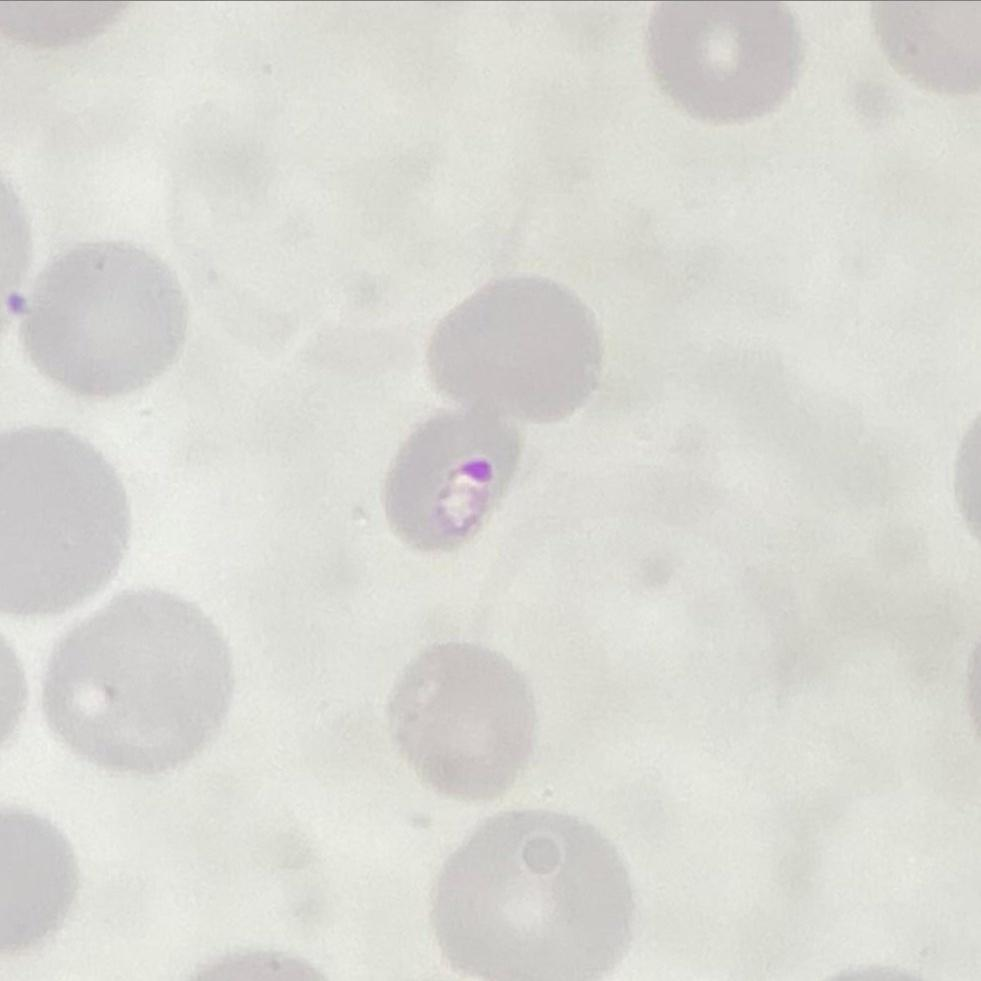Infected: (382, 390, 521, 550)
Uninfected: (434, 810, 640, 981), (40, 588, 232, 771), (16, 240, 190, 398), (422, 278, 603, 425), (382, 642, 534, 803), (0, 428, 126, 620), (648, 0, 804, 118)
